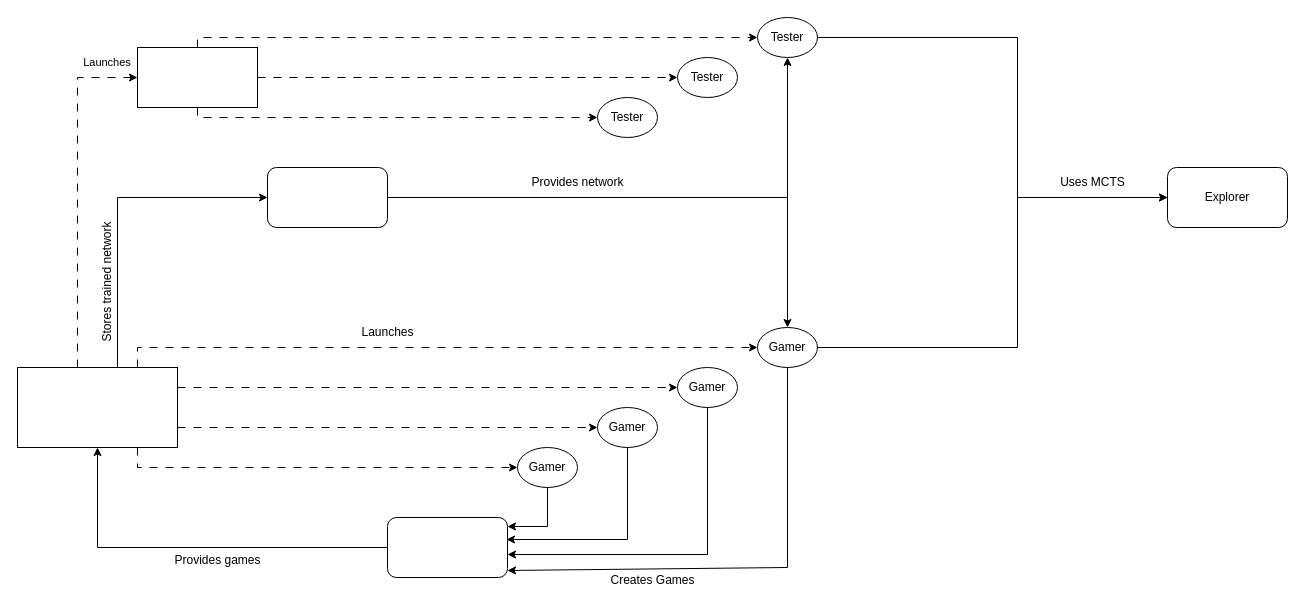
Image size: 1305x613. Some labels were removed from this diagram. The shapes that lost their labels are listed below. From the top down, each one's centre as x and y in pixels, then its label:
At point (197, 77): "Test Manager".
At point (327, 197): "Network Storage".
At point (97, 407): "AlphaZero".
At point (447, 547): "Replay Buffer".
